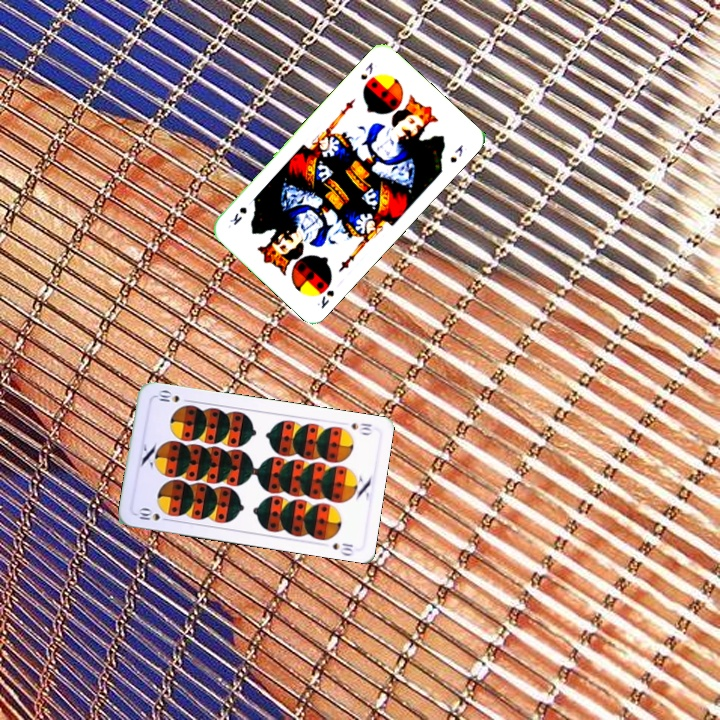S10: (133, 504, 173, 524), (347, 419, 374, 437)
SK: (313, 286, 337, 312), (356, 58, 376, 82)
